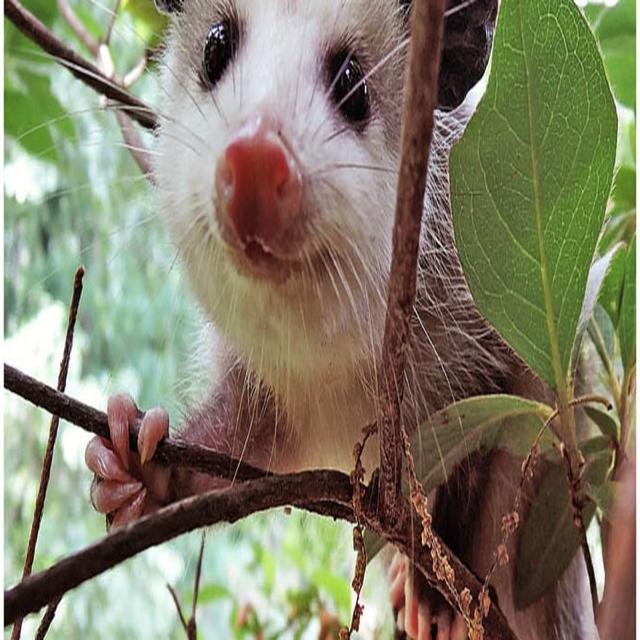possum: (134, 0, 420, 473)
